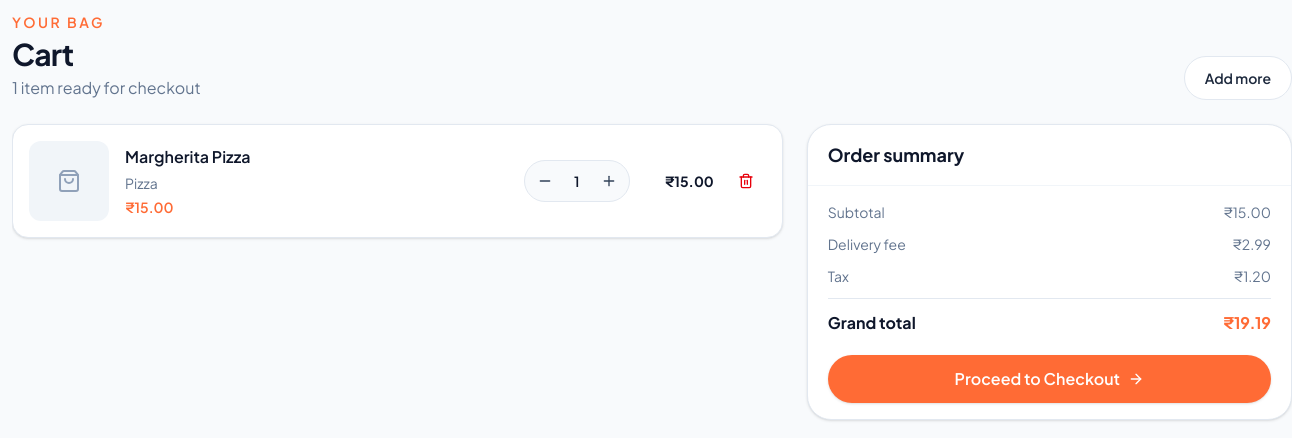
it: CartPage › updates quantity with increment and decrement controls
The width and height of the screenshot is (1292, 438).
Expected: the heading "Margherita Pizza" is shown, [125,146,250,167]
Expected: the text "1" is shown, [574,172,580,190]
Click the button named "Increase Margherita Pizza": (609,181) [593,165,625,197]
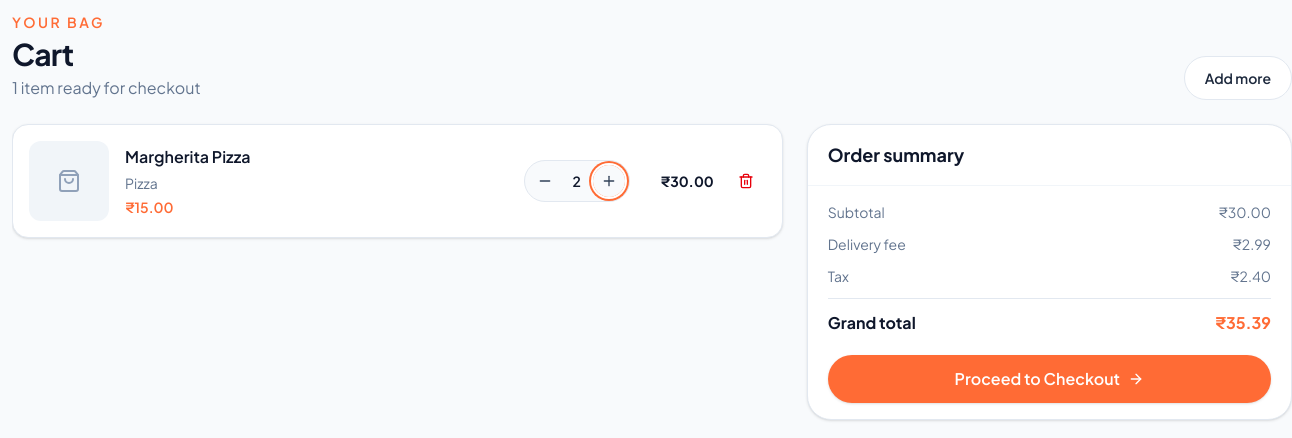
Now the text "2" is shown, box [572,172,581,190]
Click the button named "Decrease Margherita Pizza": (545,181) [529,165,561,197]
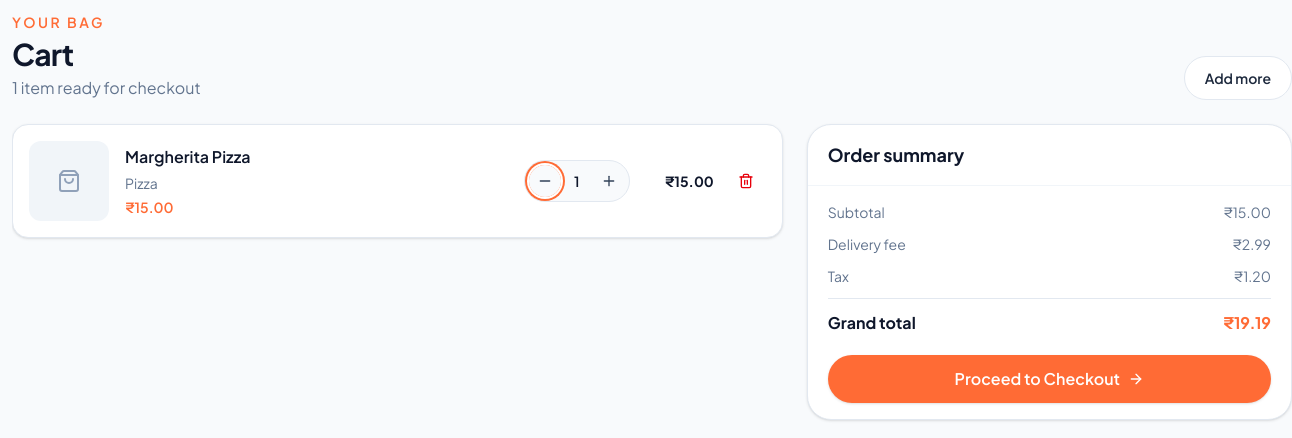
Now the text "1" is shown, box [574,172,580,190]
